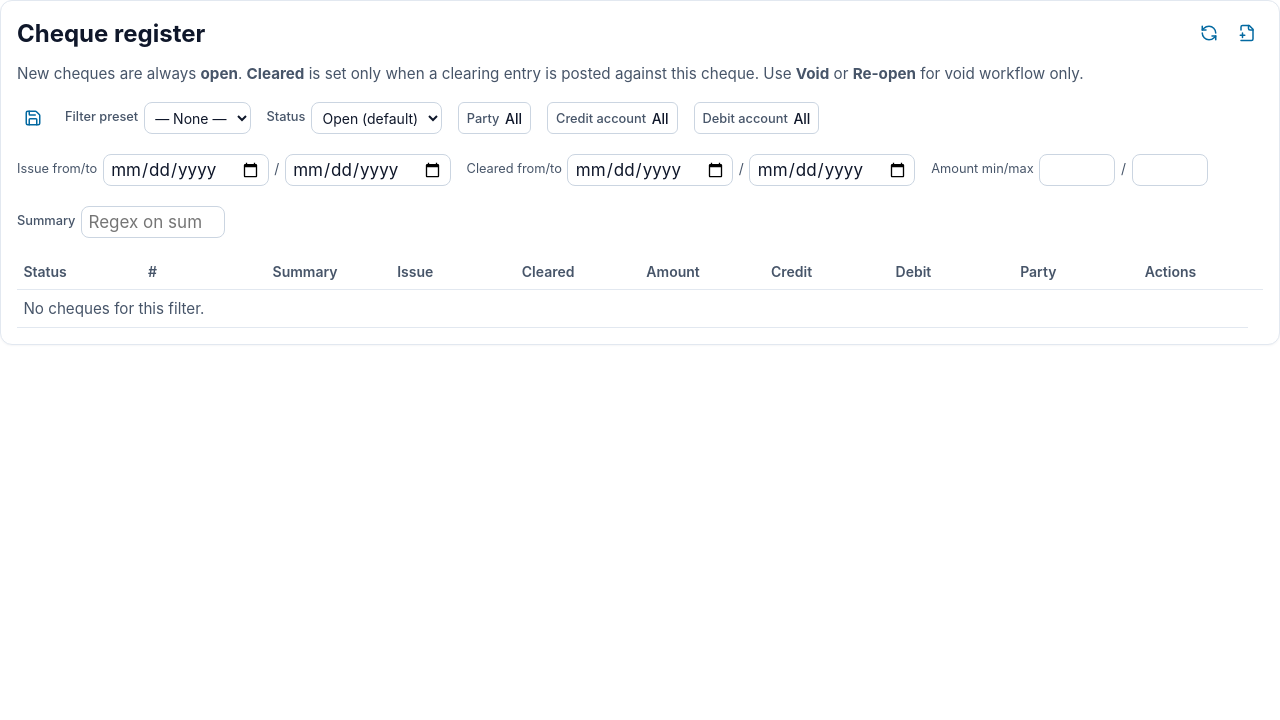
Test: ChequesSection #105 — picker eligibility and last-used defaults › leaves new-cheque sides unset when the stored default is no longer eligible
expect the table is shown: met, box [17,254,1263,328]
Step 1. Click the button named "New cheque" → (1247, 33), box [1231,17,1263,49]
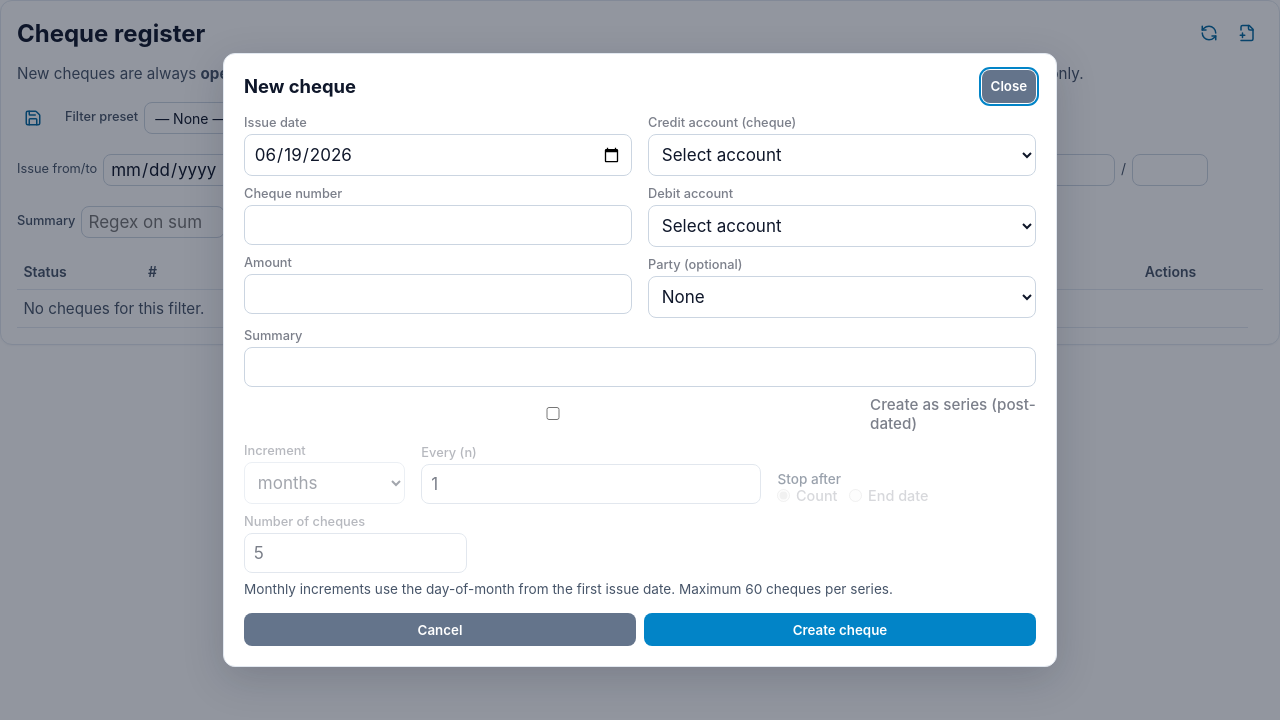
expect the dropdown labelled "Credit account (cheque)" shows "Select account": met, box [648,134,1036,176]
expect the dropdown labelled "Debit account" shows "Select account": met, box [648,205,1036,247]
